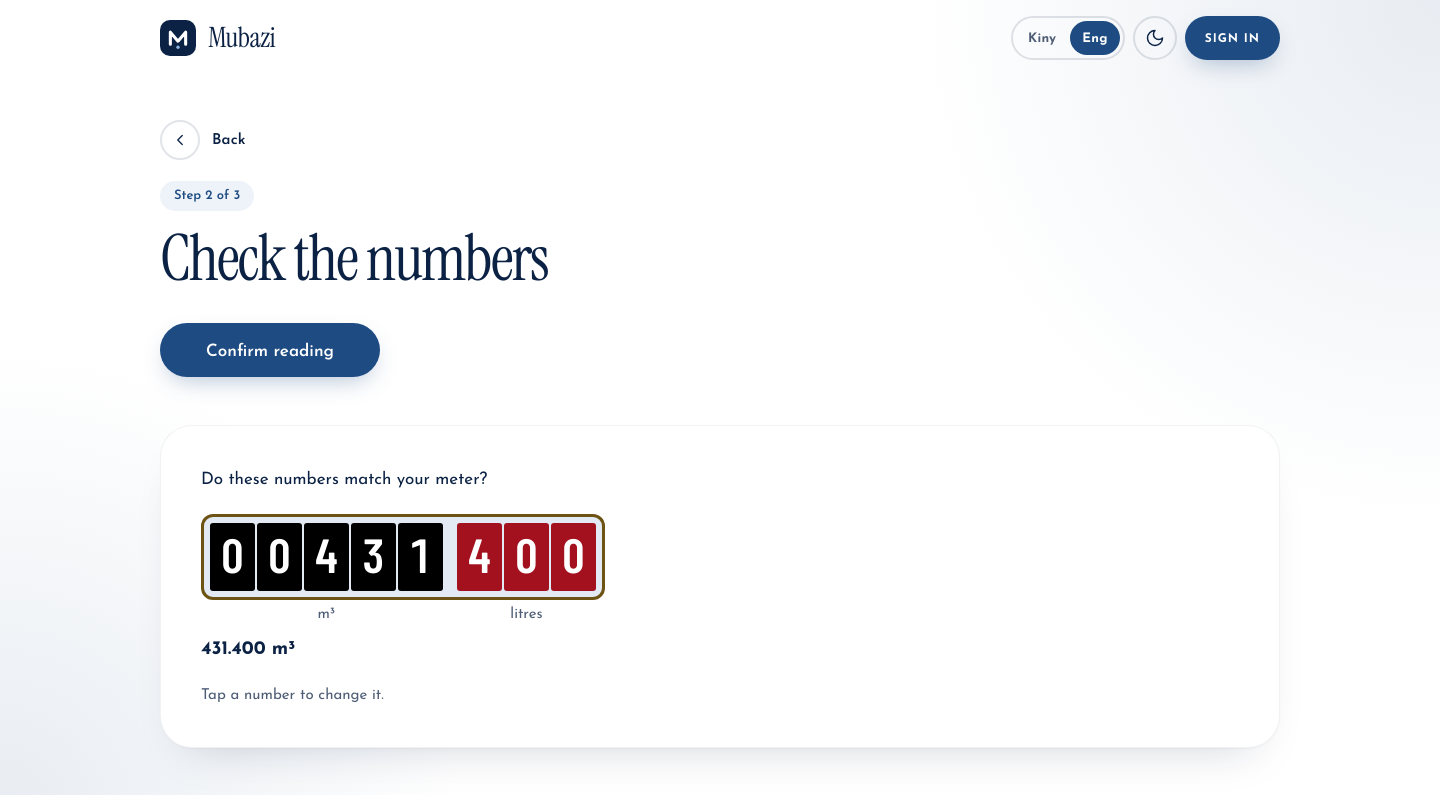
ConfirmReading › when the household chooses to check the digits, should go back with the numbers kept
The width and height of the screenshot is (1440, 795).
Click the button "Confirm reading" at (270, 350), box top-left (160, 323), bottom-right (380, 377)
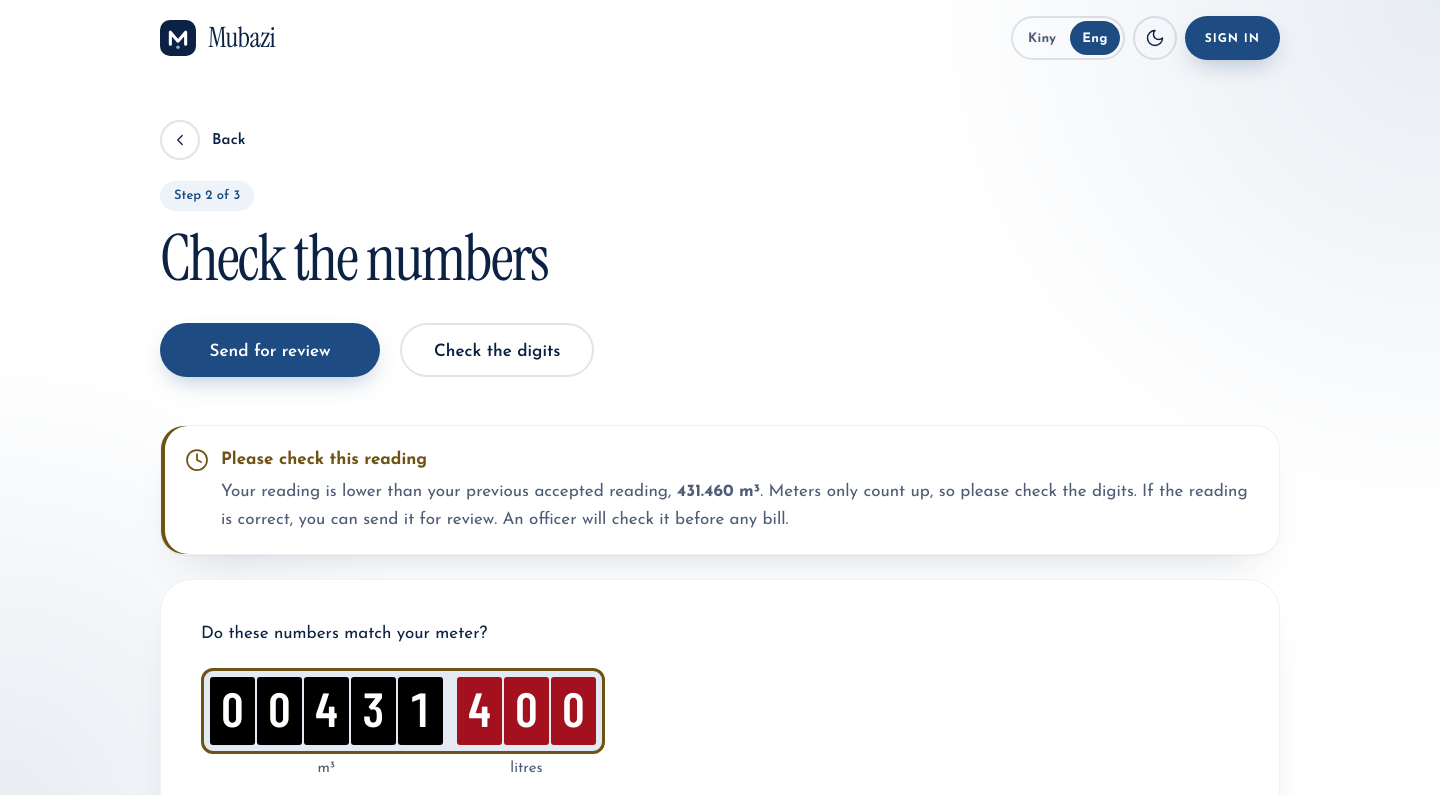
Click the button "Check the digits" at (497, 350), box top-left (400, 323), bottom-right (594, 377)
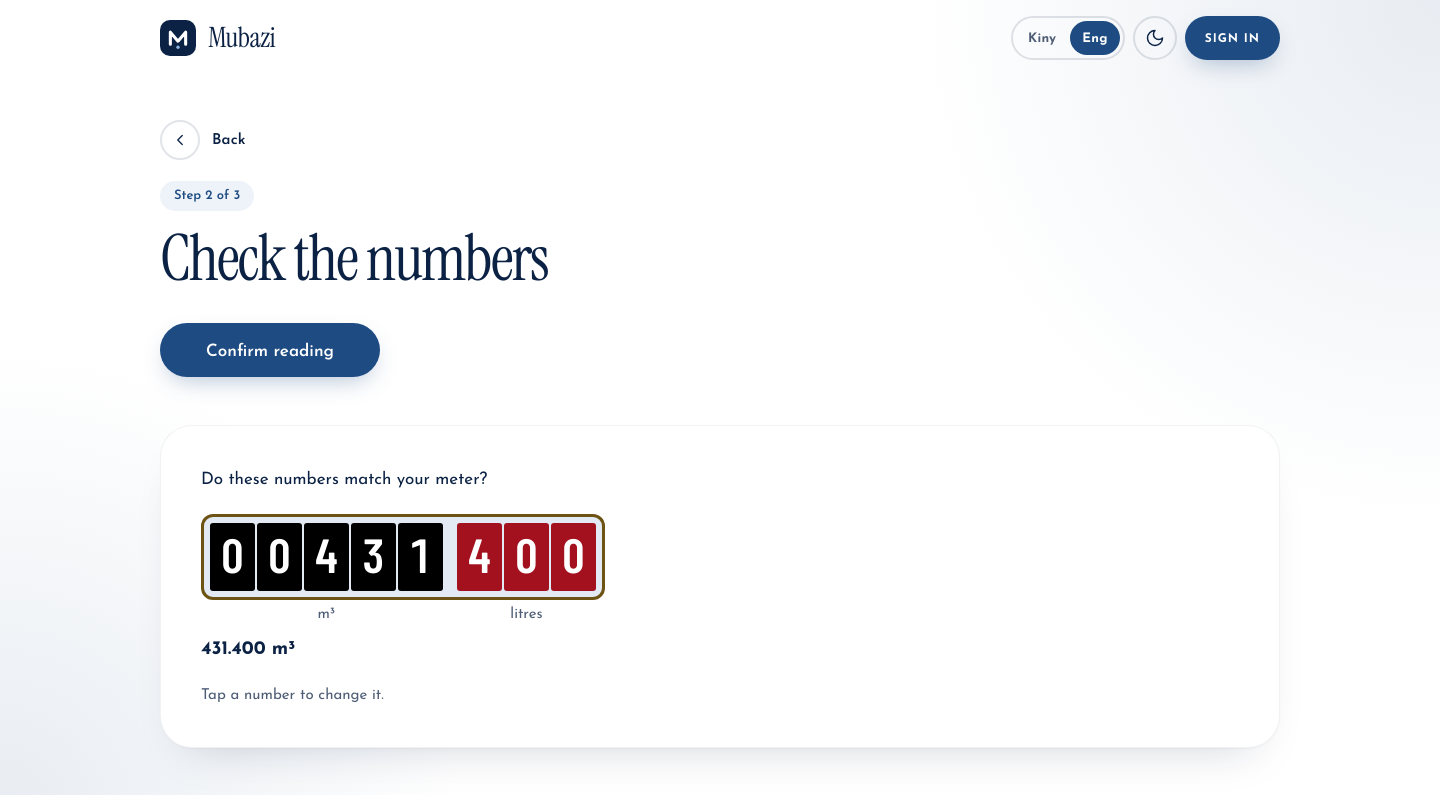
Check: the button "Send for review" is gone
Check: the button "Confirm reading" is shown, box top-left (160, 323), bottom-right (380, 377)
